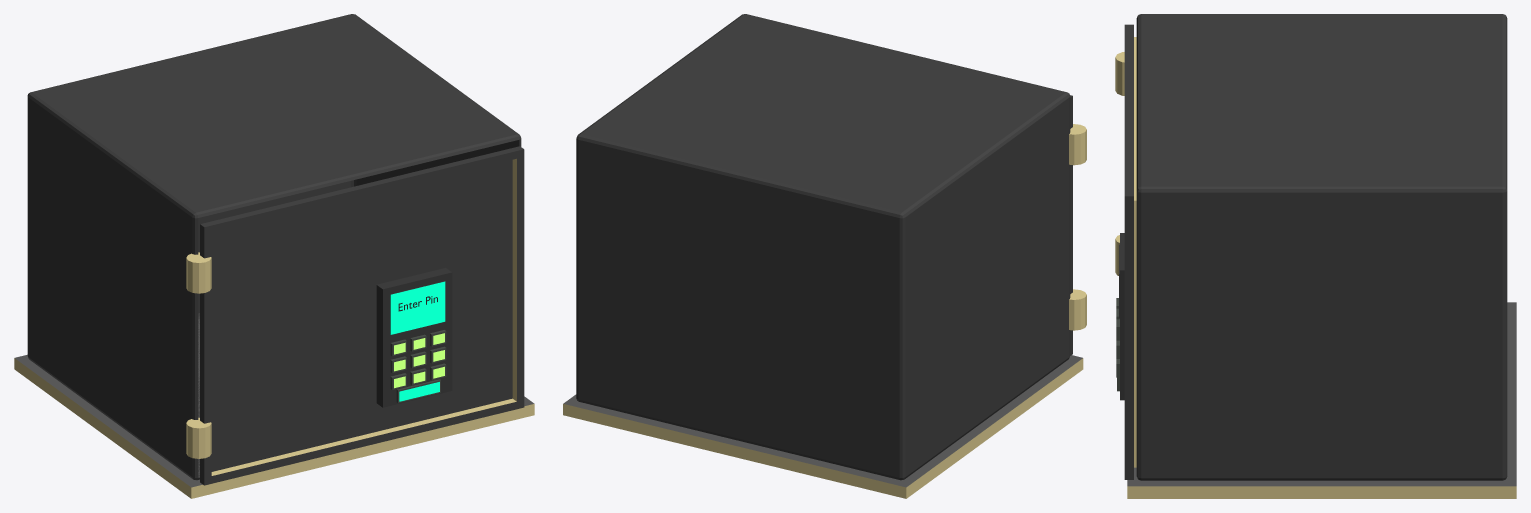
The model's file is bedroom_safe.fbx.
3 views of the same model, side by side, from view 1: azimuth 30°, elevation 25°; view 2: azimuth 150°, elevation 25°; view 3: azimuth 270°, elevation 25° (orthographic). The views are drawn at different scales.
Visible parts, largest first — view 1: Safe_Body, Safe_Door, Safe_Base, Safe_Keypad, Safe_Hinge_Top, Safe_Hinge_Bottom, Safe_Key_OK; view 2: Safe_Body, Safe_Base, Safe_Hinge_Bottom, Safe_Hinge_Top; view 3: Safe_Body, Safe_Base, Safe_Door, Safe_Keypad.
Part boxes in pixels (box(x1,y1,x2,y2)): Safe_Body: box(27, 14, 521, 480); Safe_Door: box(200, 146, 524, 485); Safe_Base: box(14, 319, 534, 498); Safe_Keypad: box(376, 268, 452, 407); Safe_Hinge_Top: box(186, 252, 211, 293); Safe_Hinge_Bottom: box(186, 417, 211, 458); Safe_Key_OK: box(396, 379, 440, 402); Safe_Body: box(576, 14, 1070, 480); Safe_Base: box(563, 355, 1083, 498); Safe_Hinge_Bottom: box(1069, 289, 1086, 330); Safe_Hinge_Top: box(1069, 124, 1086, 165); Safe_Body: box(1136, 14, 1507, 480); Safe_Base: box(1127, 302, 1516, 498); Safe_Door: box(1124, 24, 1136, 479); Safe_Keypad: box(1119, 233, 1124, 400).
Bounding box in the file's own units: 47.35 × 36.5 × 43.3.
